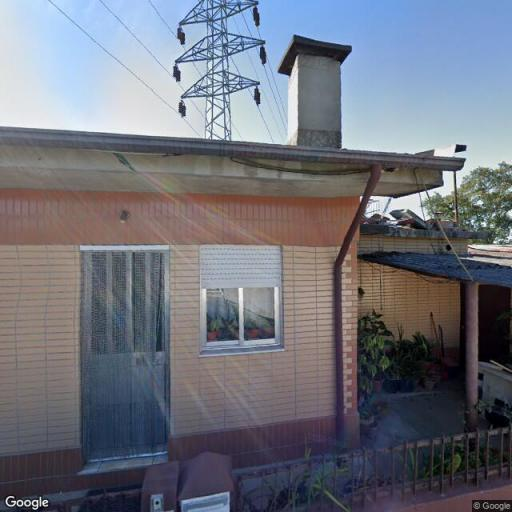ss_3: (171, 0, 270, 143)
